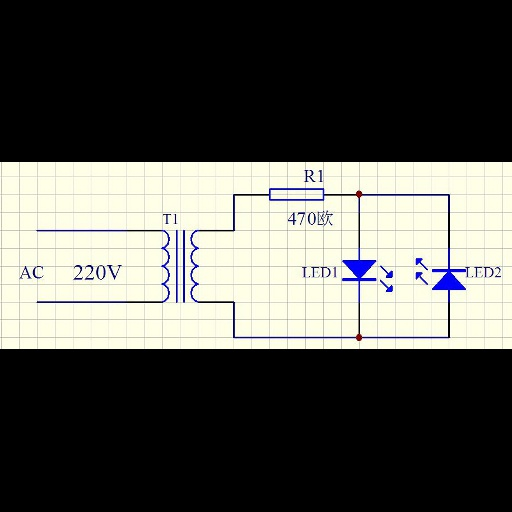firstled: (411, 255, 466, 298), (340, 257, 397, 296)
firstresistance: (265, 185, 328, 204)
transformer: (156, 229, 209, 304)
